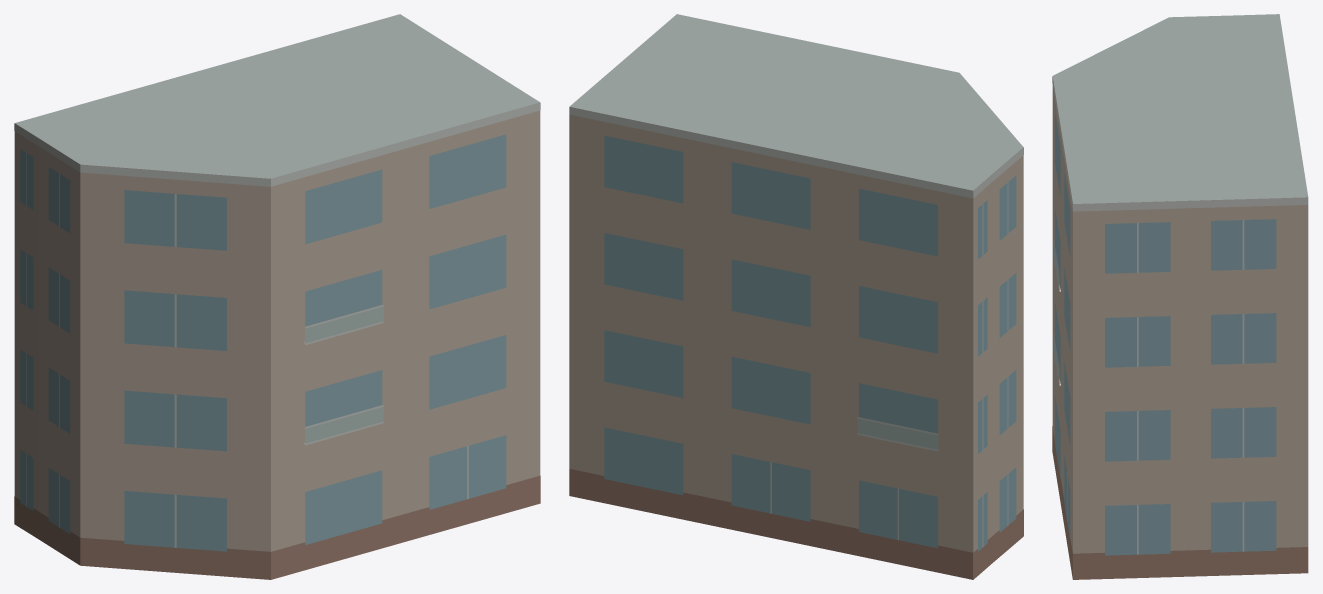
File: residential-7685fdbf-8327-4c12-b04c-adc0c23e8627.glb
The picture shows the model from 3 angles, left to right: view 1: azimuth 30°, elevation 25°; view 2: azimuth 150°, elevation 25°; view 3: azimuth 270°, elevation 25°; orthographic projection. The views are drawn at different scales.
Visible parts, largest first — view 1: residential-7685fdbf-8327-4c12-b04c-adc0c23e8627.tmp; view 2: residential-7685fdbf-8327-4c12-b04c-adc0c23e8627.tmp; view 3: residential-7685fdbf-8327-4c12-b04c-adc0c23e8627.tmp.
Boxes of the visible parts, x1,y1,x2,y2 form: residential-7685fdbf-8327-4c12-b04c-adc0c23e8627.tmp: [14, 14, 540, 579]; residential-7685fdbf-8327-4c12-b04c-adc0c23e8627.tmp: [569, 14, 1023, 579]; residential-7685fdbf-8327-4c12-b04c-adc0c23e8627.tmp: [1052, 14, 1308, 579].
Bounding box in the file's own units: 13.24 × 12.2 × 7.54.
